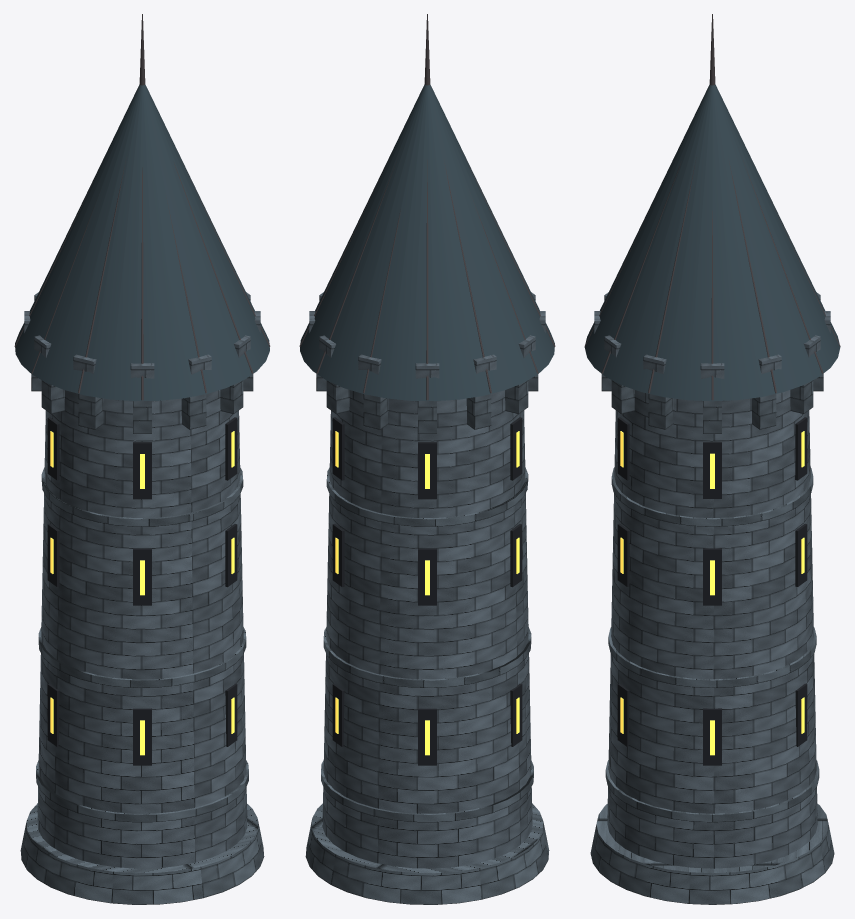
File: spire-tower.glb
3 renders of one model, left to right at view 1: azimuth 30°, elevation 25°; view 2: azimuth 150°, elevation 25°; view 3: azimuth 270°, elevation 25°, orthographic.
Visible parts, largest first — view 1: spire-tower; view 2: spire-tower; view 3: spire-tower.
Part boxes in pixels (x1=…): spire-tower: x1=14, y1=14, x2=270, y2=904; spire-tower: x1=299, y1=14, x2=555, y2=904; spire-tower: x1=584, y1=14, x2=840, y2=904.
Size of the model in its own units: 8.71 by 31.5 by 8.71.
6 materials, 2 textured.
